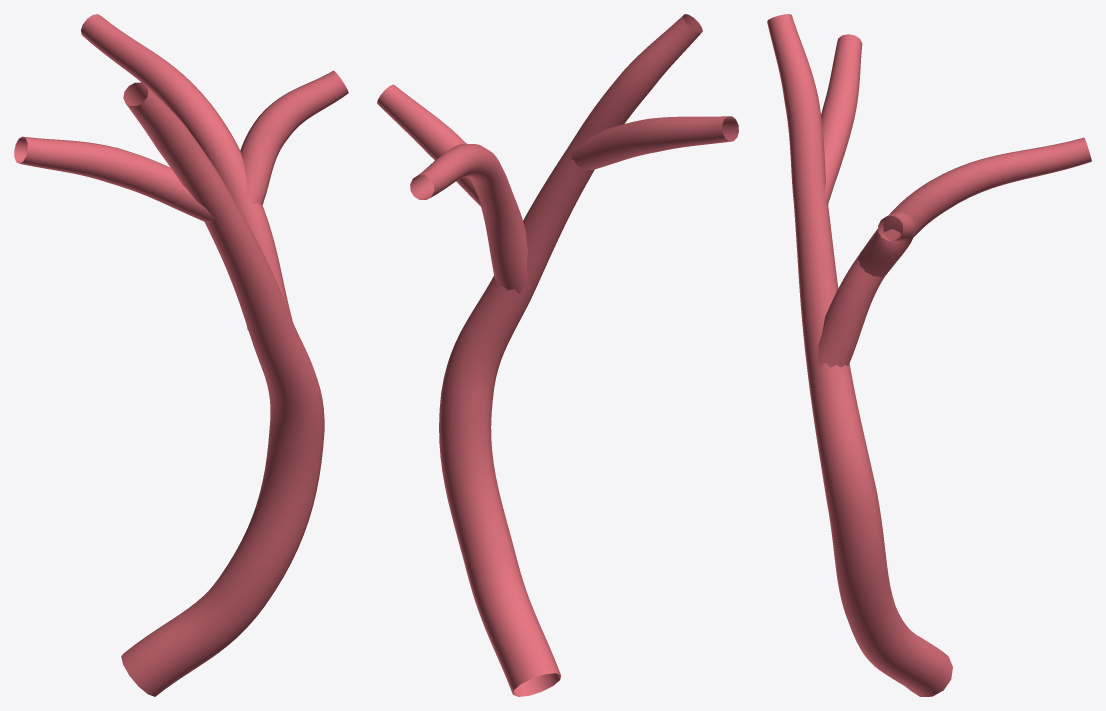
The picture shows the model from 3 angles, left to right: view 1: azimuth 30°, elevation 25°; view 2: azimuth 150°, elevation 25°; view 3: azimuth 270°, elevation 25°; orthographic projection. The views are drawn at different scales.
Visible parts, largest first — view 1: ZA_c3e1bab5e64da597; view 2: ZA_c3e1bab5e64da597; view 3: ZA_c3e1bab5e64da597.
Boxes of the visible parts, x1=… form: ZA_c3e1bab5e64da597: x1=14, y1=14, x2=348, y2=696; ZA_c3e1bab5e64da597: x1=377, y1=14, x2=738, y2=696; ZA_c3e1bab5e64da597: x1=767, y1=14, x2=1091, y2=696.
Size of the model in its own units: 0.0442 by 0.0826 by 0.0379.
